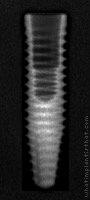Neodent: (20, 13, 69, 191)
